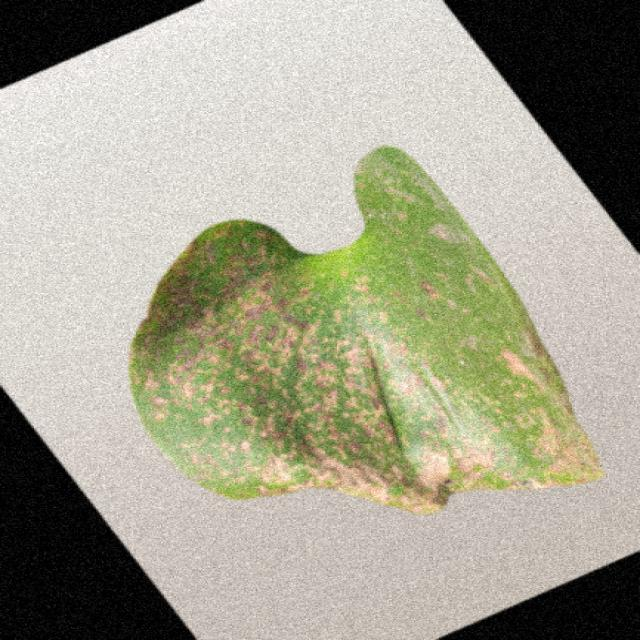daun berpenyakit bercak: (130, 148, 603, 514)
